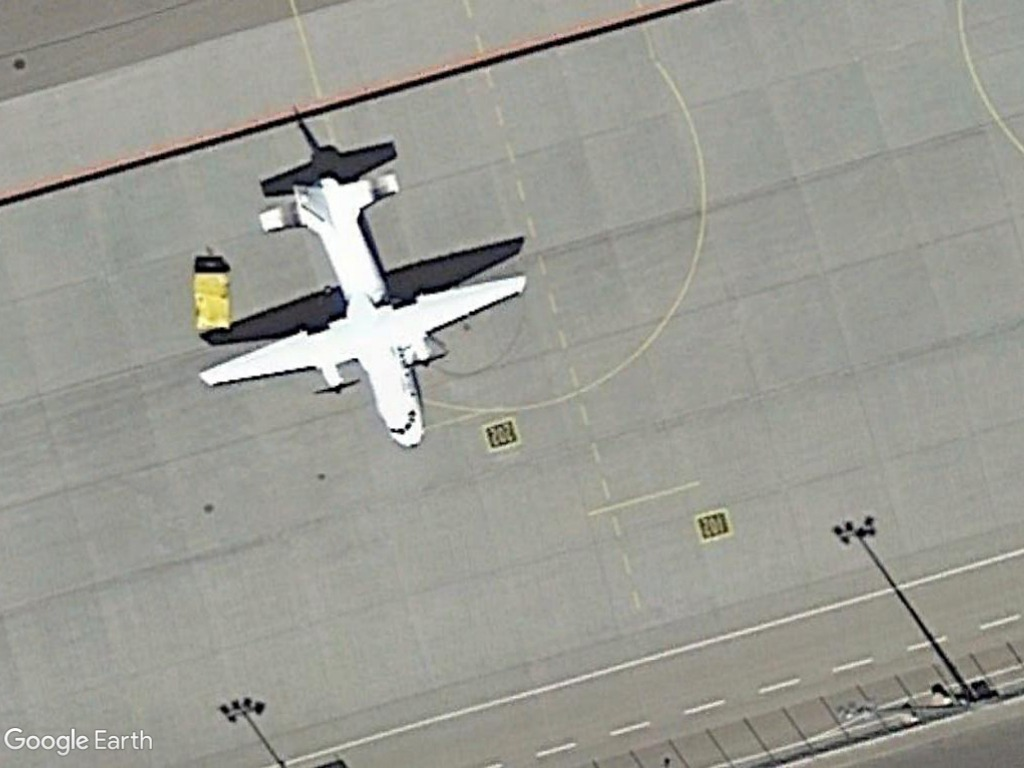propeller: (186, 167, 535, 462)
